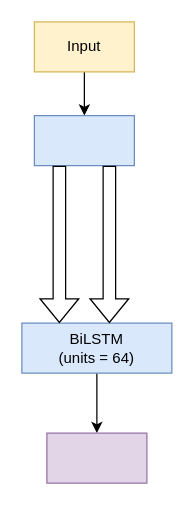
The diagram is 194 pixels wide and 505 high, and some of its shapes have lost their labels. Here are the shapes that lost their labels. From the top down, the centre of each, then its label:
At point (83, 140): "Reshape".
At point (96, 457): "Output".
